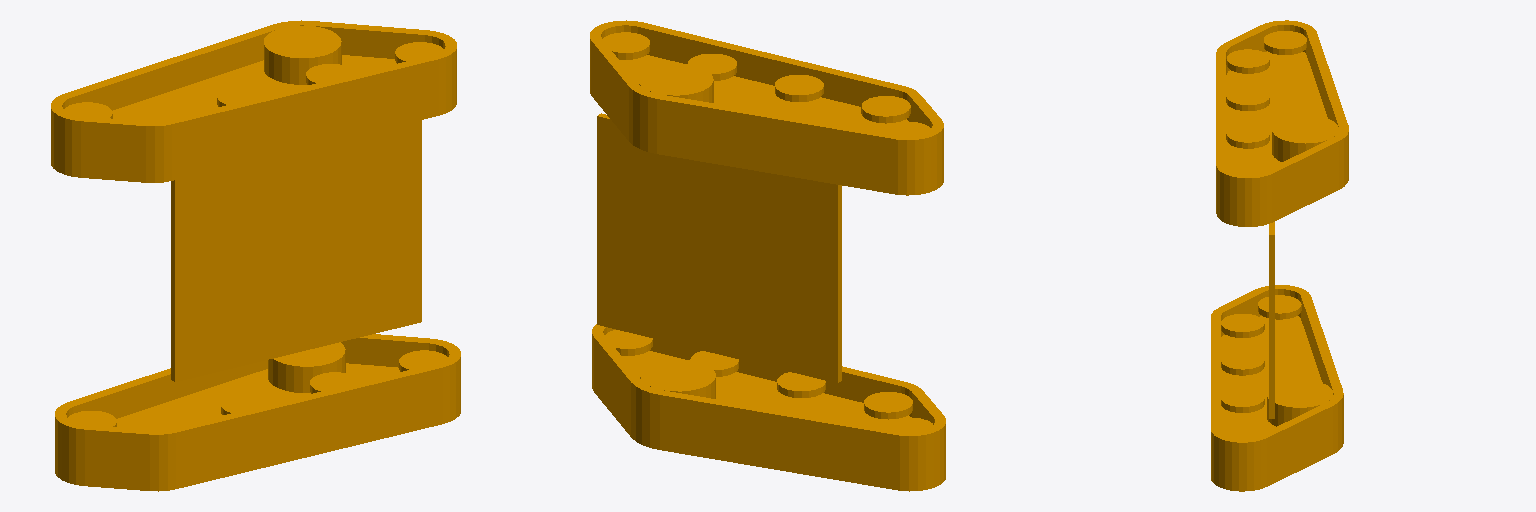
robot.urdf — pichi:
<robot name="pichi">
  <link name="base_link">
    <visual>
      <origin rpy="0 0 0" xyz="0.15 0 0.35"/>
      <geometry>
        <mesh filename="package://sdu_pichi_demining/description/pichi.stl"/>
      </geometry>
    </visual>
  </link>
</robot>

--- Facts derived from the render (not from the file) ---
The picture shows the robot from 3 angles, left to right: view 1: azimuth 30°, elevation 25°; view 2: azimuth 150°, elevation 25°; view 3: azimuth 270°, elevation 25°; orthographic projection.
Robot: pichi — 1 links, 0 joints (none); root link base_link; default pose: all joints at 0.
Links seen in each view (by area): view 1: base_link; view 2: base_link; view 3: base_link.
Link boxes in pixels (left/top/right/bottom): base_link: left=51, top=20, right=460, bottom=491; base_link: left=590, top=20, right=945, bottom=491; base_link: left=1211, top=20, right=1348, bottom=491.
Bounding box of the posed robot: 1111 × 411 × 1025 m (x, y, z).
1 mesh visuals loaded from 1 distinct referenced files (1 ASCII STL).
